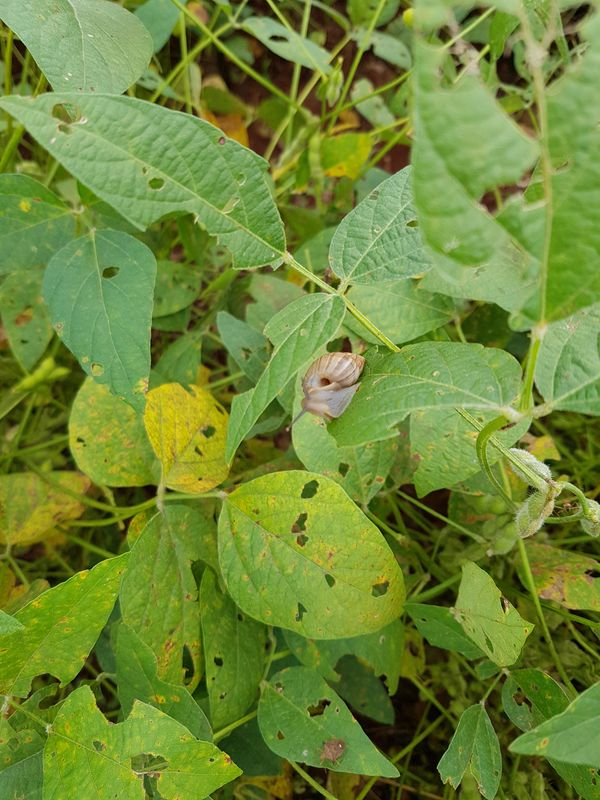Euschistus_heros_adulto: (314, 735, 352, 772)
Gastropoda: (274, 339, 379, 438)
